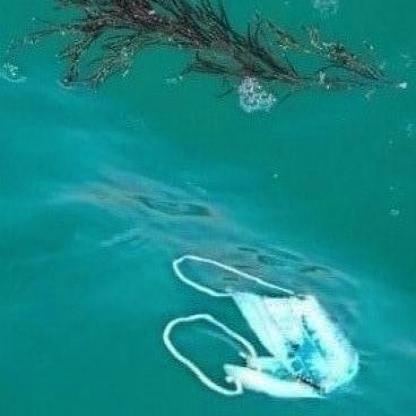Mask: (164, 252, 363, 404)
